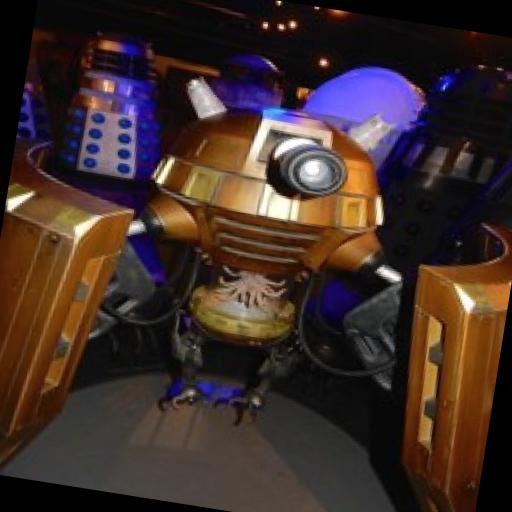dalek: (144, 54, 410, 261), (52, 25, 174, 212)
